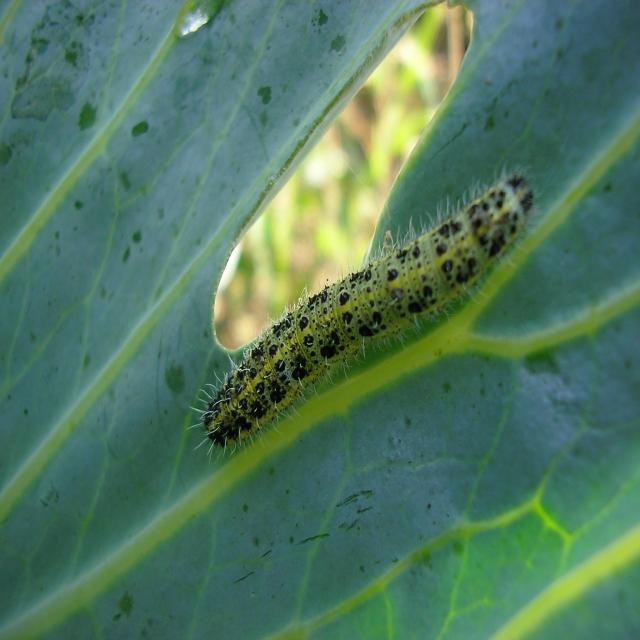pest-armyworm: (199, 163, 537, 459)
